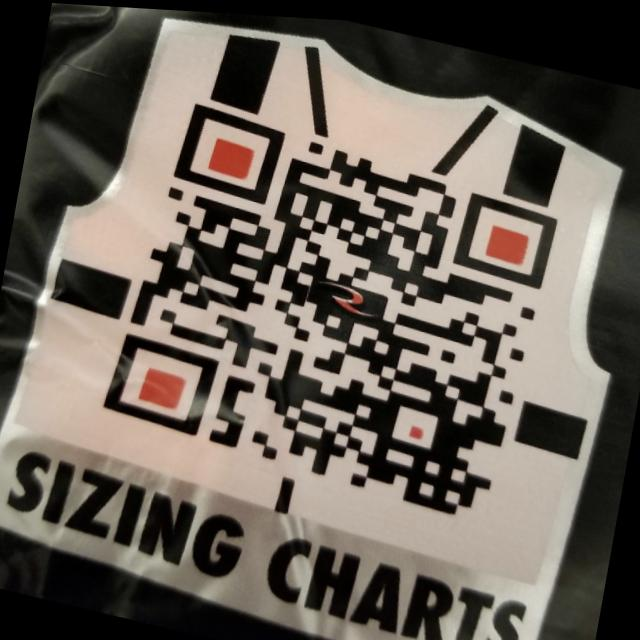QR_CODE: (89, 69, 582, 542)
